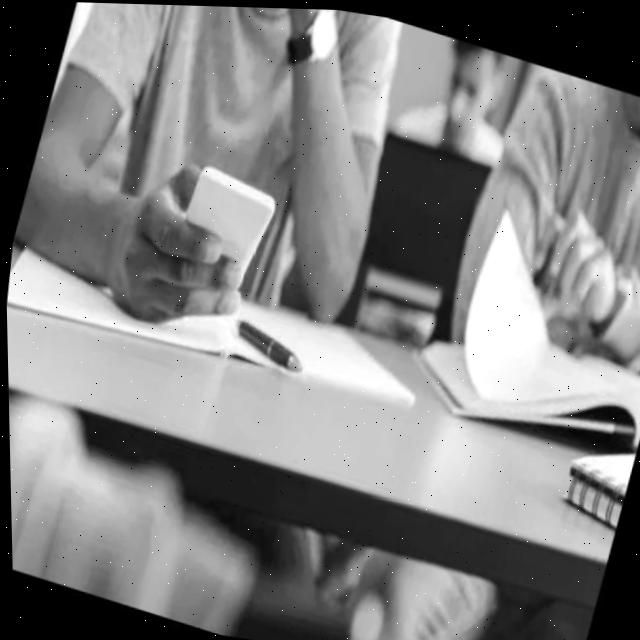phone: (166, 157, 282, 287)
